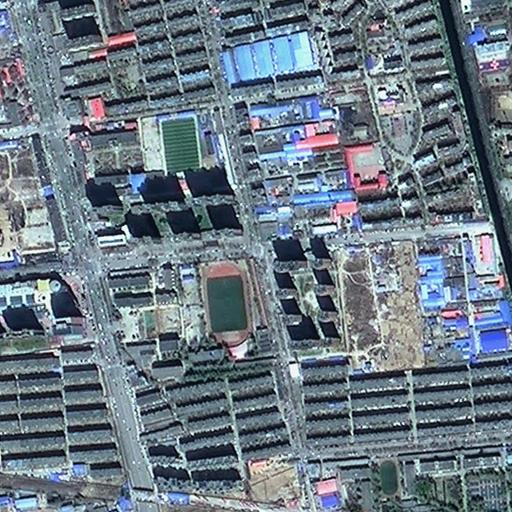school: (110, 255, 262, 374)
